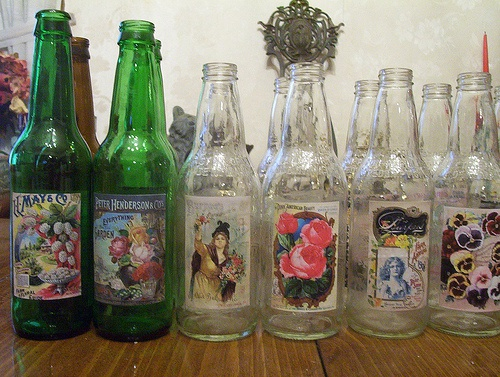emptybottle: (11, 10, 92, 340), (94, 19, 172, 343), (175, 62, 262, 342), (262, 64, 345, 340), (351, 68, 429, 339), (431, 73, 500, 338)
